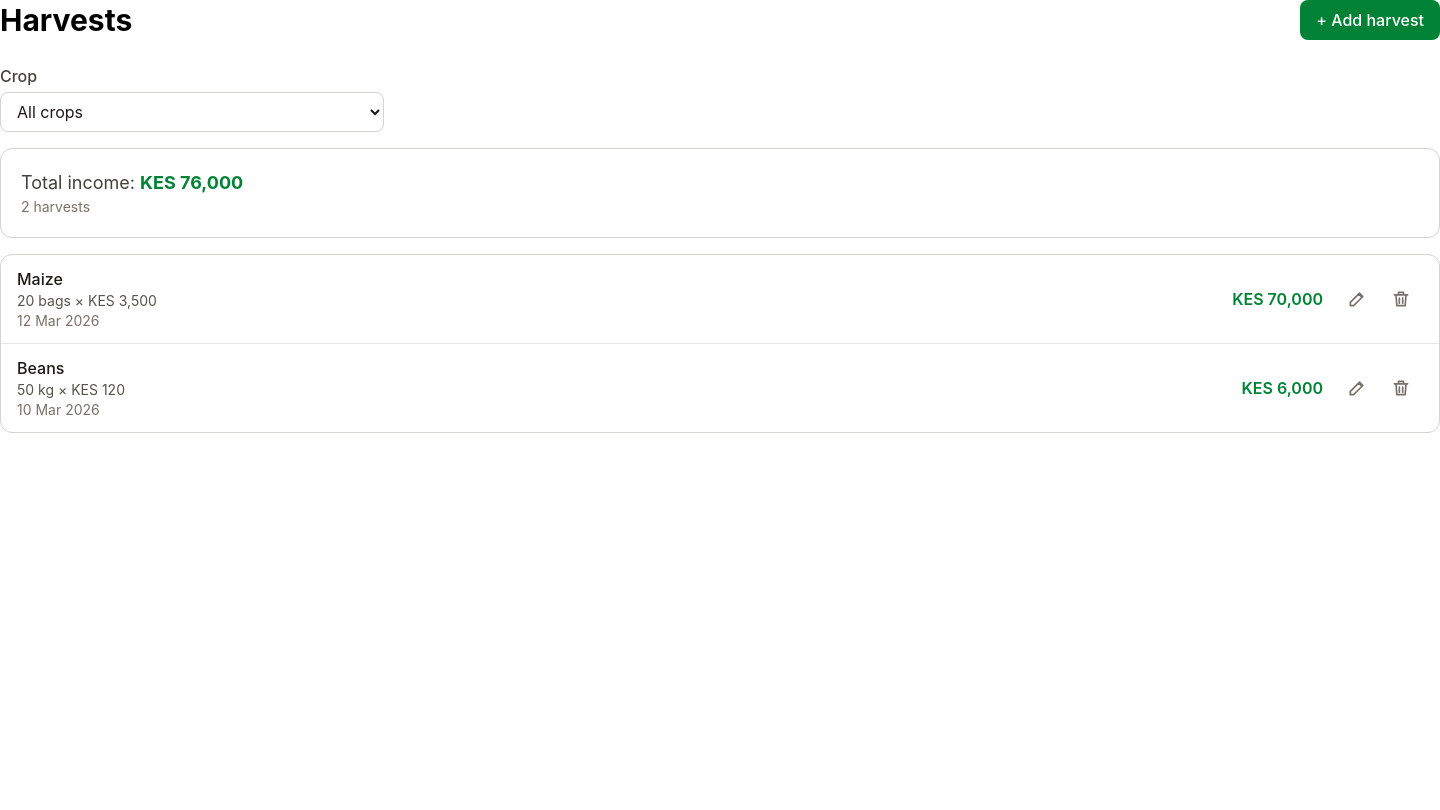
it: Harvests page › adds a harvest and closes the form straight away
Click the button "+ Add harvest": (1370, 20) [1300,0,1439,40]
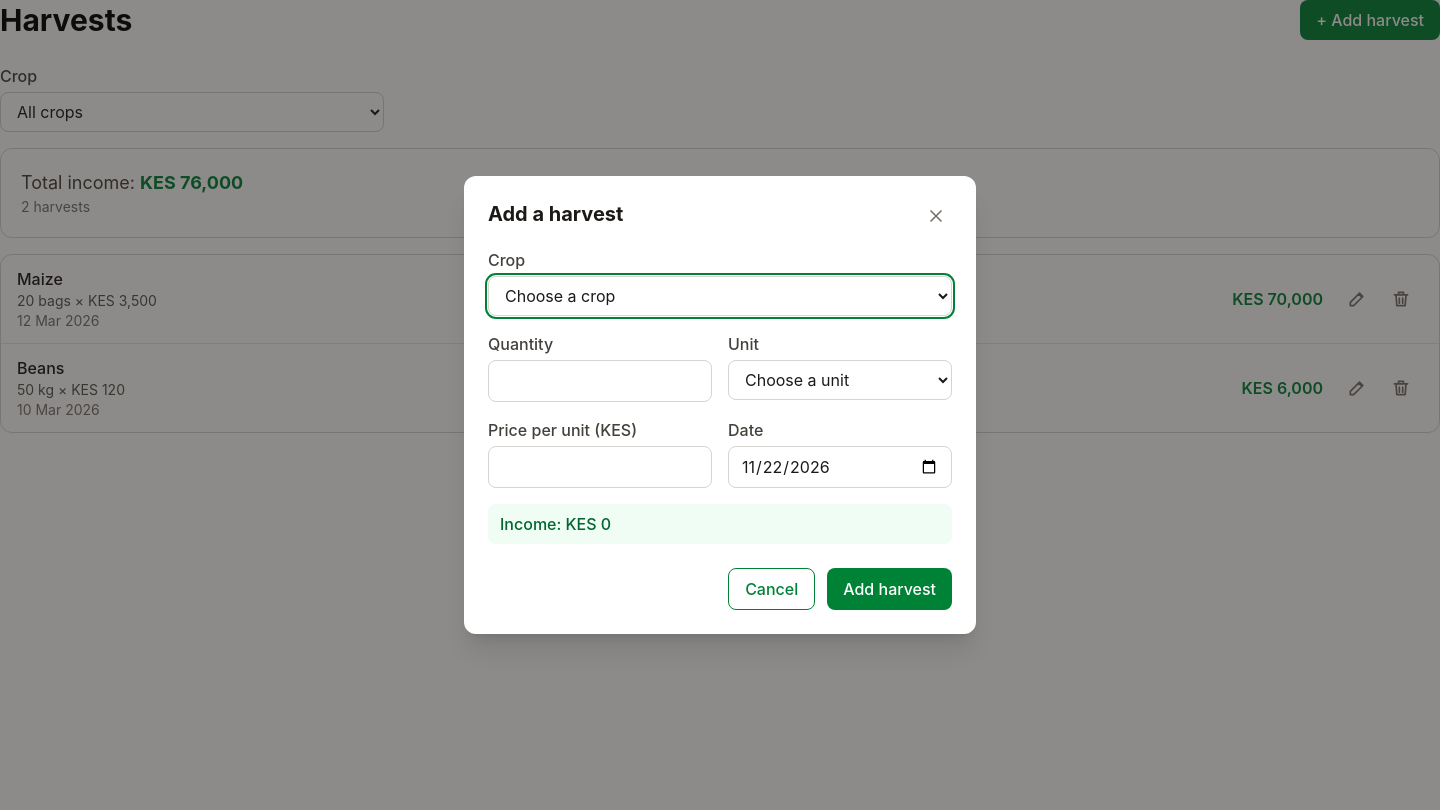
Select "Maize" in the dropdown labelled "Crop": (720, 296) [488,276,952,316]
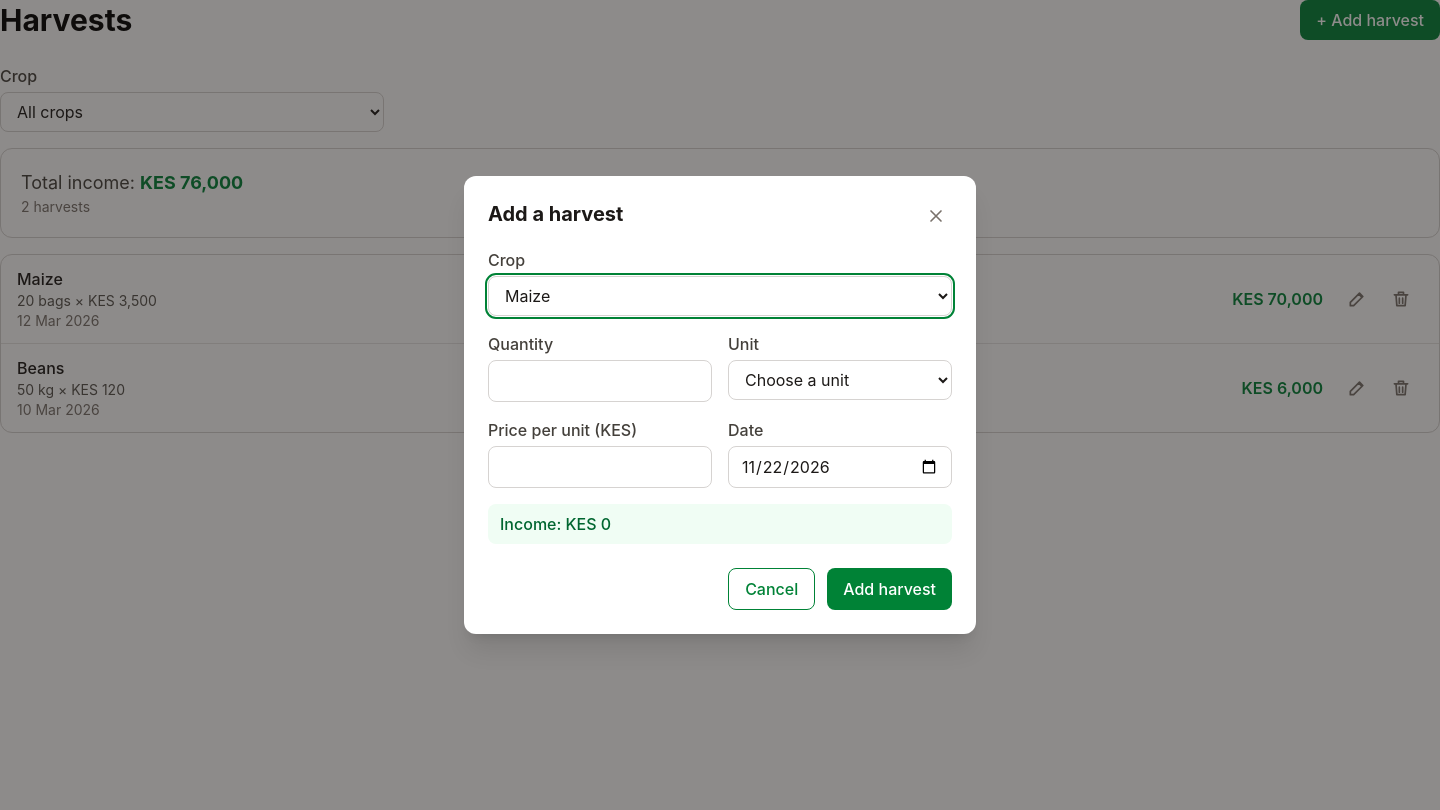
In the number field labelled "Quantity": (600, 381) [488,360,712,402], type "5"
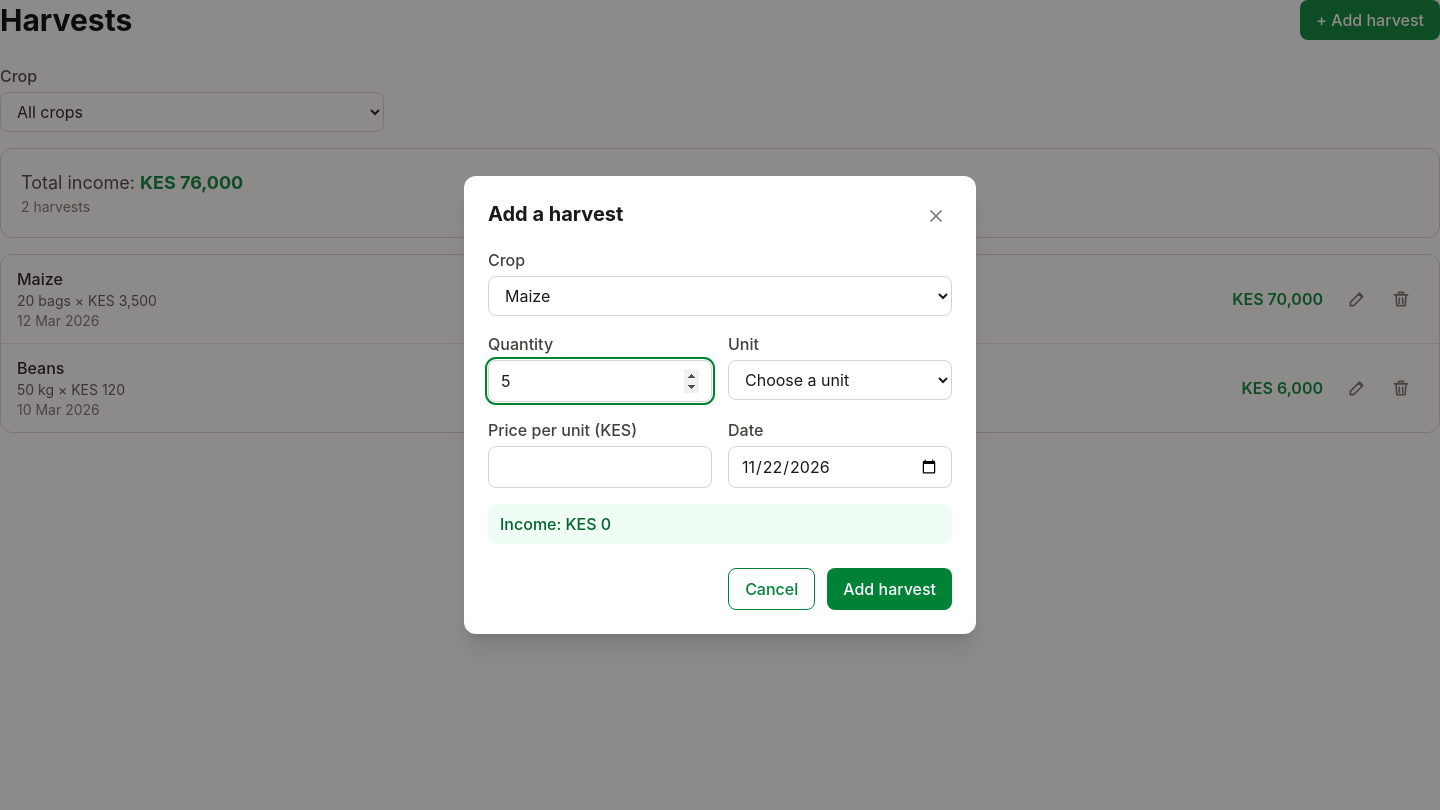
Select "crates" in the dropdown labelled "Unit": (840, 380) [728,360,952,400]
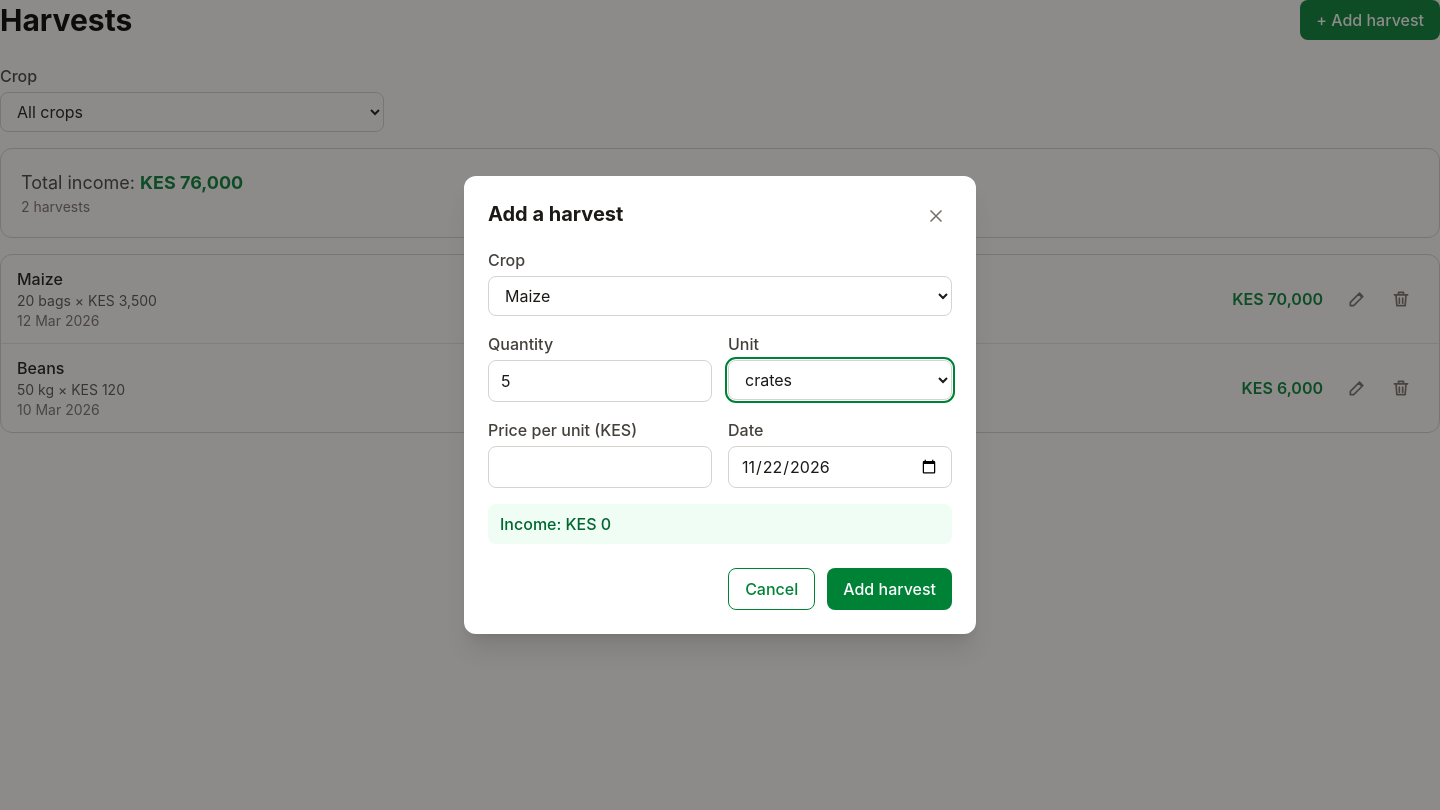
In the number field labelled "Price per unit (KES)": (600, 467) [488,446,712,488], type "900"
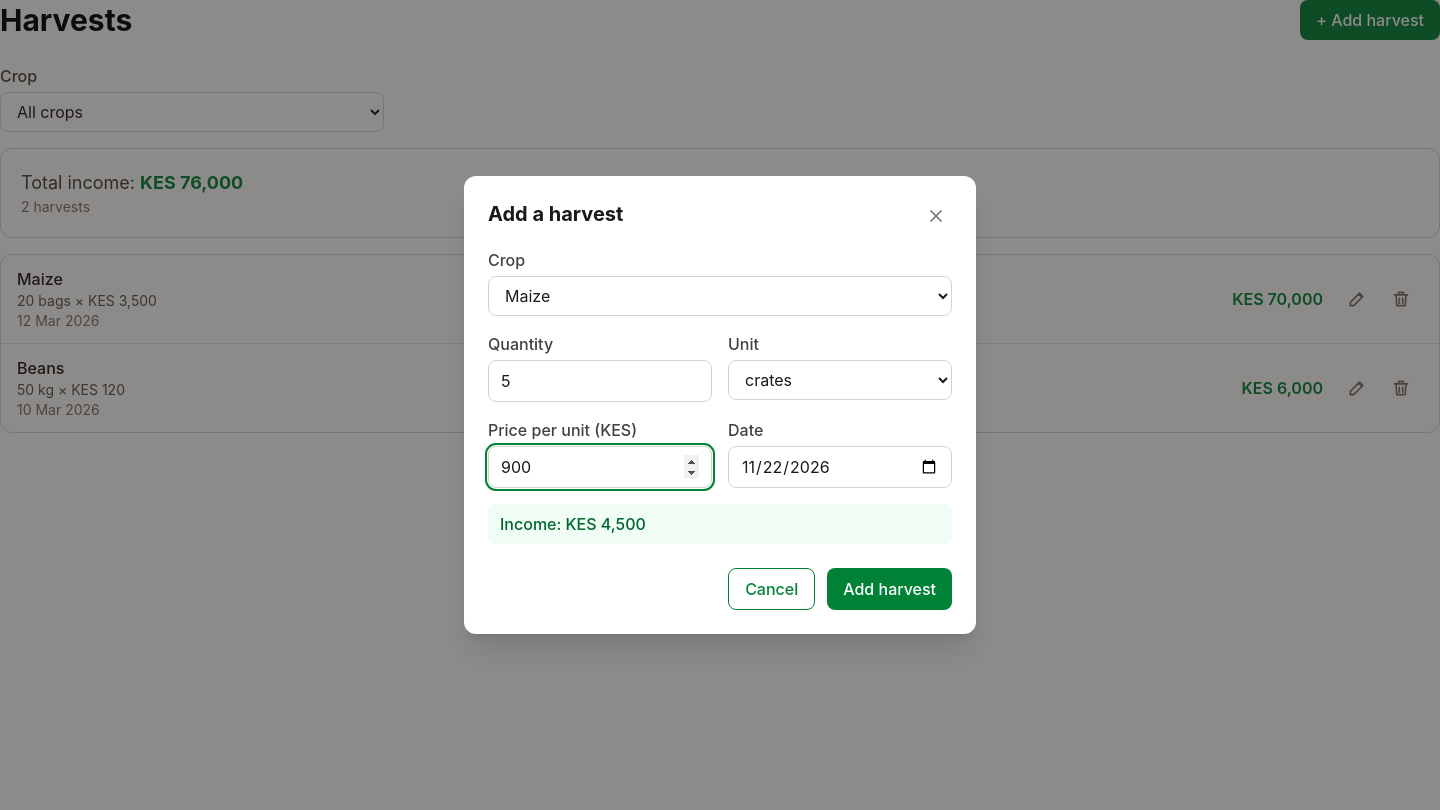
Click the button "Add harvest": (890, 589) [827,568,952,610]
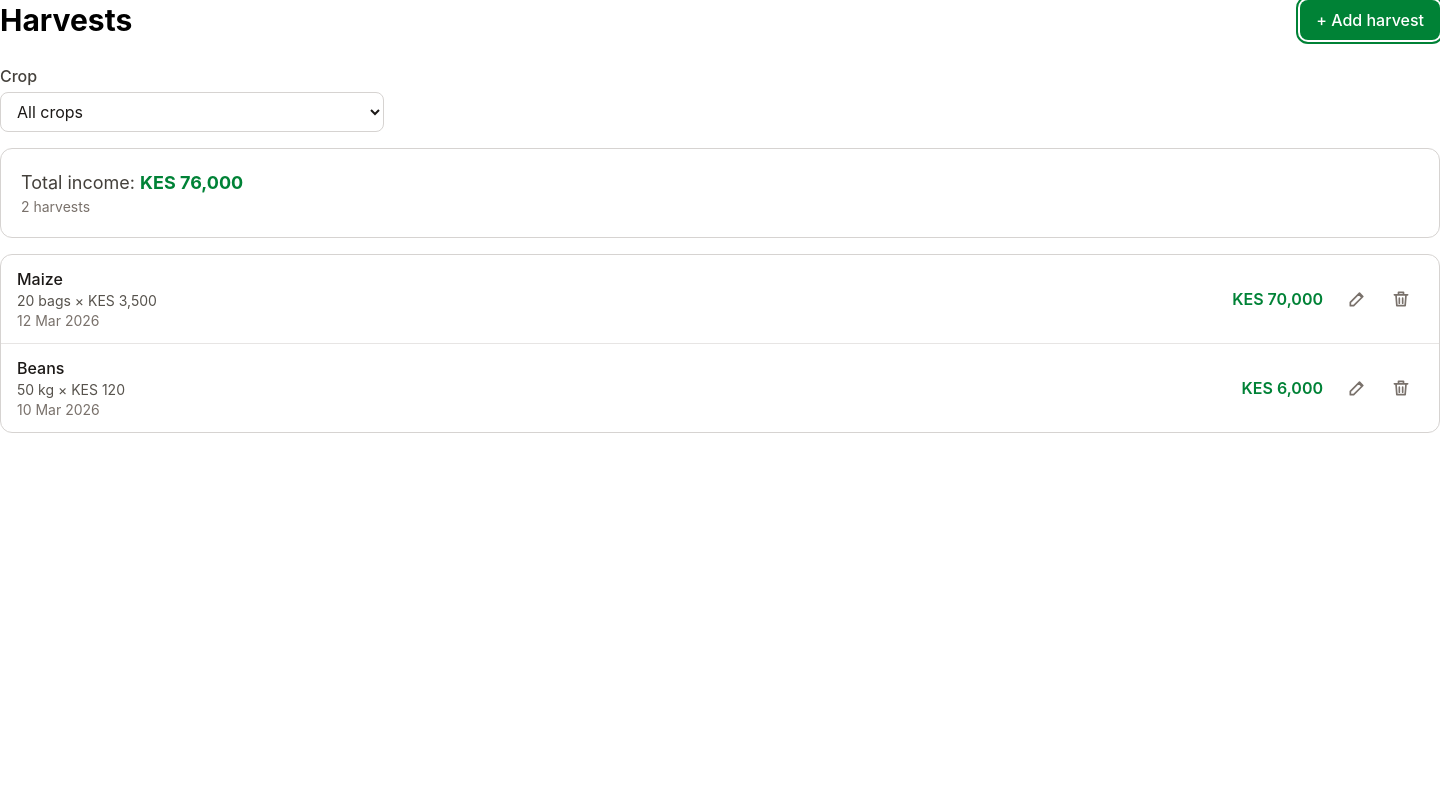
Check: the dialog is gone
